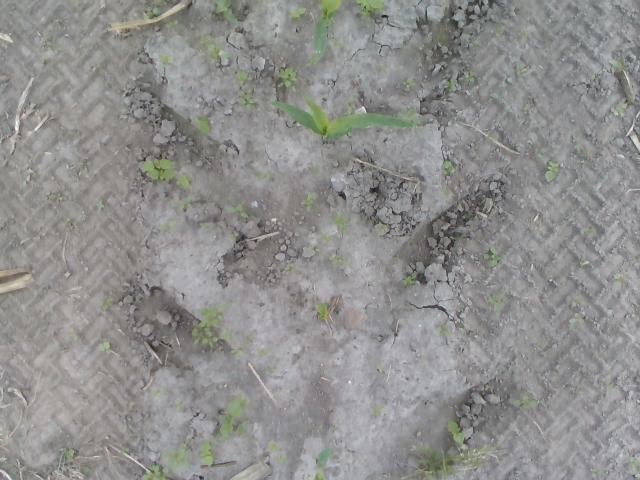Maize: (270, 96, 420, 142), (311, 0, 340, 63), (313, 447, 332, 480)
Weeds: (446, 419, 497, 469), (213, 390, 254, 442), (191, 303, 232, 350), (416, 444, 464, 480), (144, 158, 192, 188), (200, 34, 238, 64), (162, 439, 194, 473), (222, 196, 256, 220), (274, 66, 302, 93), (354, 0, 384, 25), (36, 31, 66, 56), (213, 0, 240, 24), (266, 439, 290, 465), (287, 0, 310, 24), (230, 334, 252, 359), (311, 233, 336, 255), (458, 65, 481, 88), (329, 210, 351, 234), (485, 292, 508, 314), (480, 246, 502, 268), (608, 55, 628, 79), (199, 438, 216, 466), (170, 192, 193, 212), (232, 64, 252, 86), (238, 87, 257, 110), (144, 462, 168, 480), (510, 394, 540, 408), (544, 159, 560, 185), (190, 116, 210, 136), (64, 320, 80, 342), (142, 0, 160, 19), (432, 322, 454, 337), (496, 17, 510, 40), (398, 104, 418, 120), (328, 255, 352, 268), (439, 158, 456, 176), (328, 31, 346, 48), (159, 218, 176, 236), (160, 17, 180, 32), (401, 270, 417, 288), (315, 302, 330, 321), (609, 103, 626, 119), (368, 401, 385, 417), (96, 295, 113, 311), (629, 456, 640, 480), (443, 78, 458, 95), (301, 191, 315, 209), (62, 446, 78, 461), (98, 335, 112, 352), (158, 52, 176, 65), (343, 96, 356, 114), (568, 312, 586, 325), (78, 159, 92, 175), (516, 63, 530, 79), (81, 464, 96, 478), (612, 272, 625, 288), (47, 192, 64, 204), (256, 171, 274, 182), (149, 384, 162, 398), (308, 161, 320, 176), (400, 78, 418, 88), (582, 226, 598, 237), (223, 231, 241, 240), (264, 363, 276, 376), (256, 347, 270, 358), (578, 256, 590, 268), (306, 55, 319, 66), (284, 262, 297, 273), (174, 399, 185, 412), (374, 223, 386, 234), (607, 382, 618, 394), (520, 25, 528, 41), (376, 362, 385, 376), (590, 467, 602, 477), (484, 132, 494, 144), (95, 199, 105, 209), (458, 320, 466, 332), (448, 235, 466, 240), (160, 0, 170, 8), (54, 472, 64, 480), (632, 99, 640, 108), (64, 216, 72, 224), (198, 222, 208, 228)
